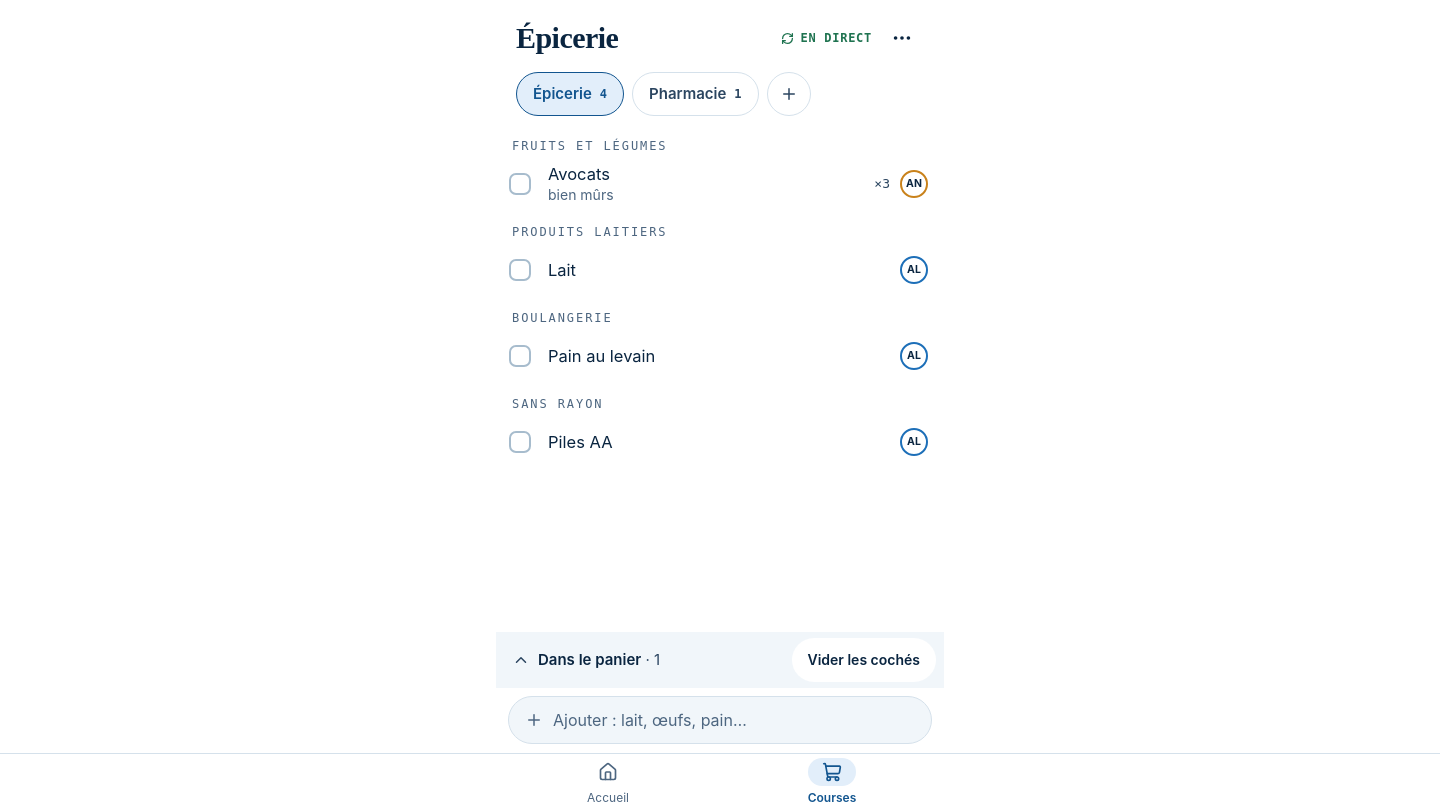
Test: cocher et le panier › revient en arrière et l’annonce si l’écriture échoue
The width and height of the screenshot is (1440, 810).
Check: the heading "Épicerie" is shown, box 516,21 -> 618,54
Click the checkbox named "Avocats". click: coordinates (520, 184)
box: 496,160 -> 544,208
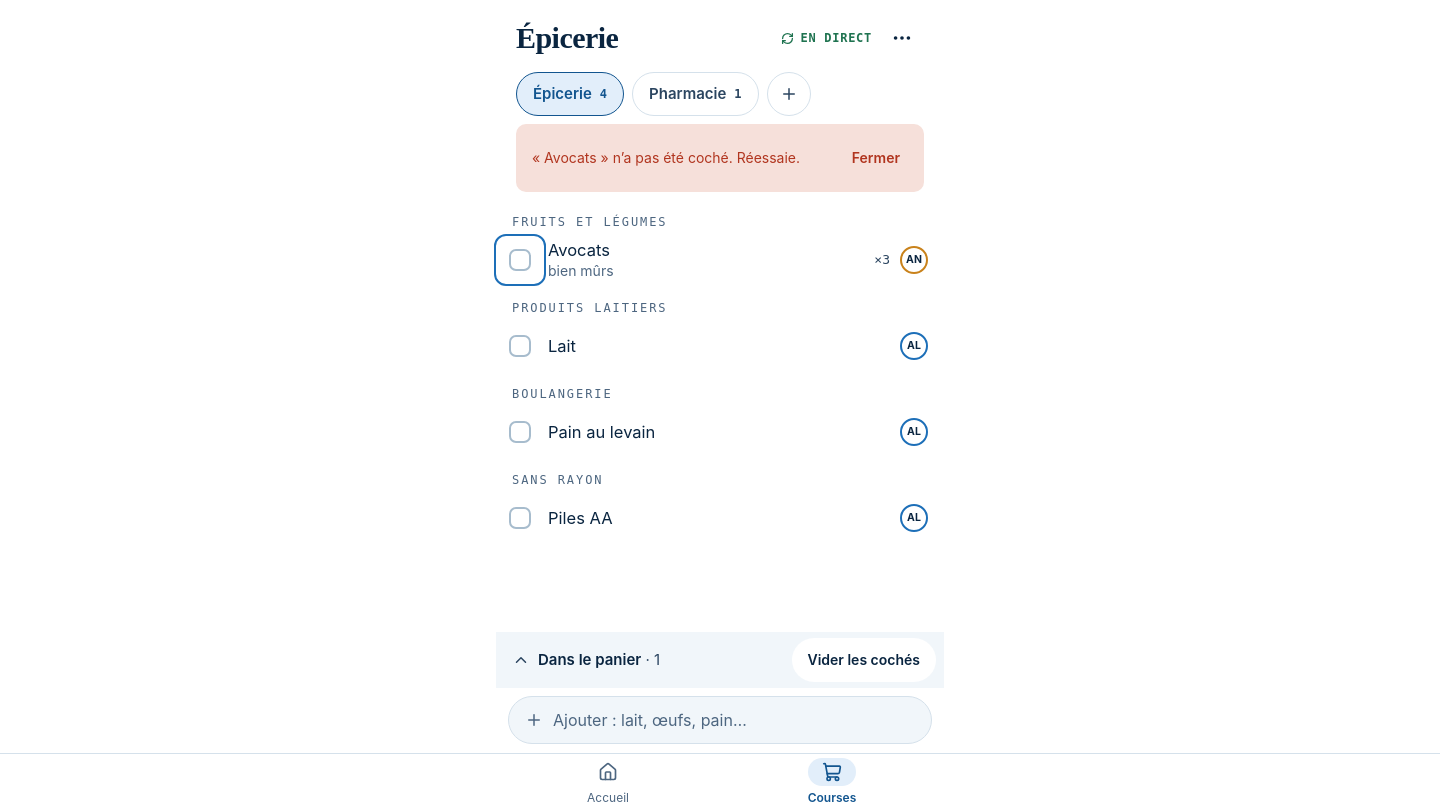
Check: the checkbox named "Avocats" is not checked, box 496,236 -> 544,284
Check: the message shows "« Avocats » n’a pas été coché. Réessaie.", box 532,149 -> 800,166
